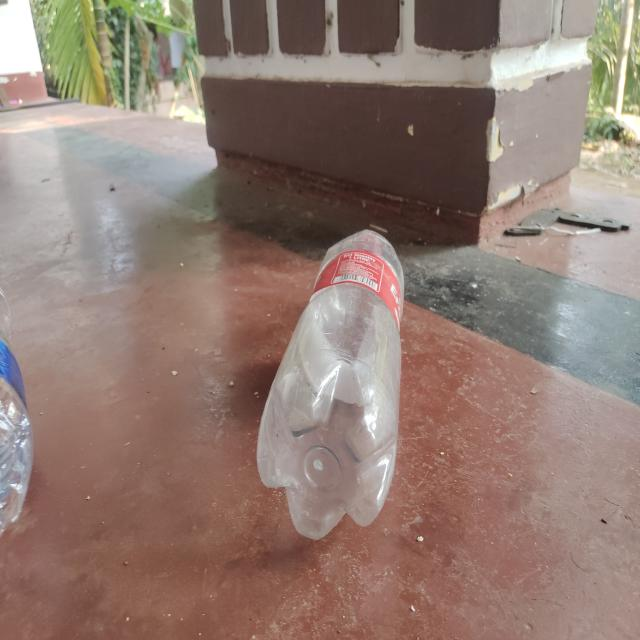plastic: (258, 229, 406, 538)
